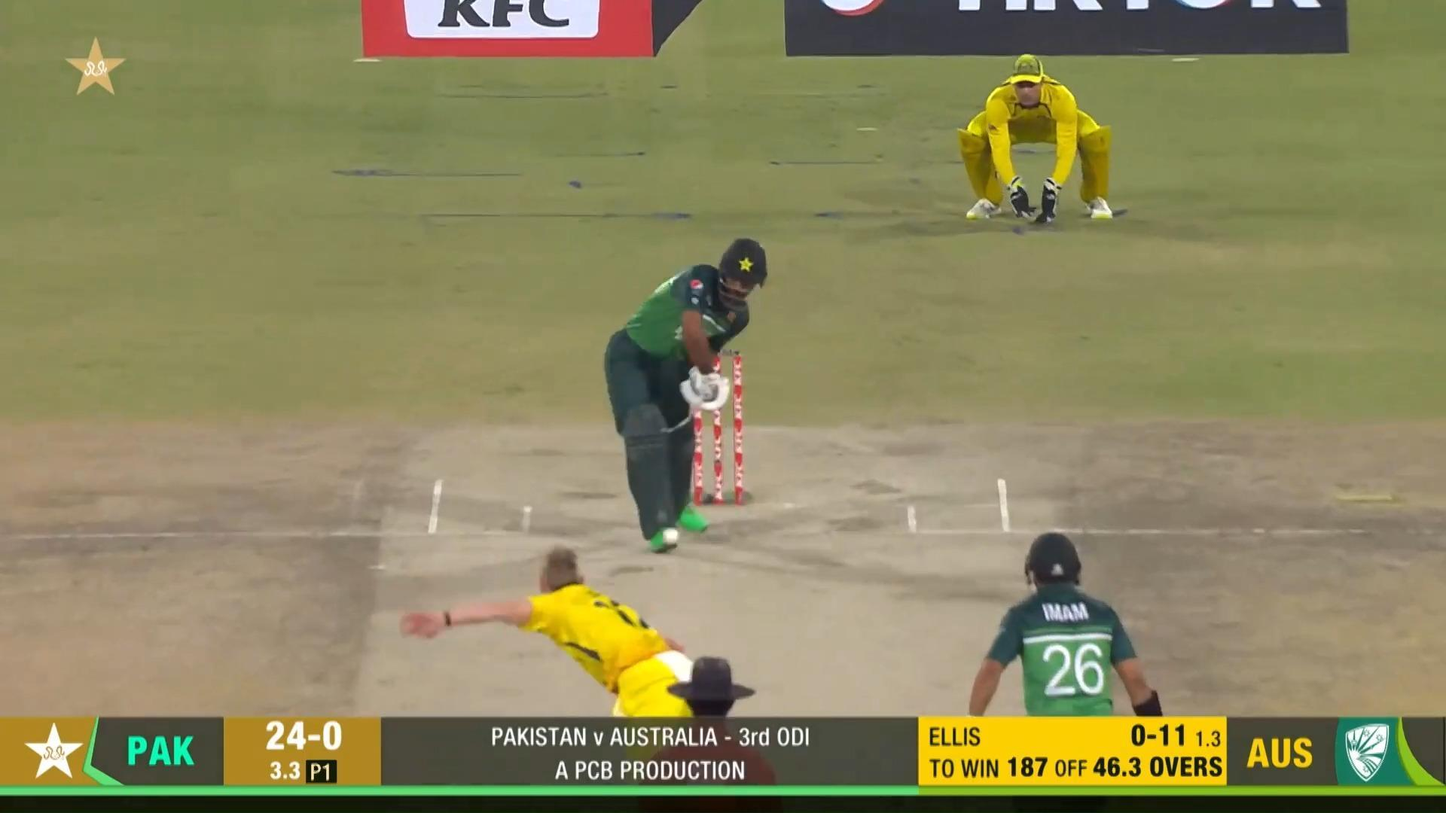BM 1: (602, 236, 772, 556)
BO: (404, 547, 699, 715)
